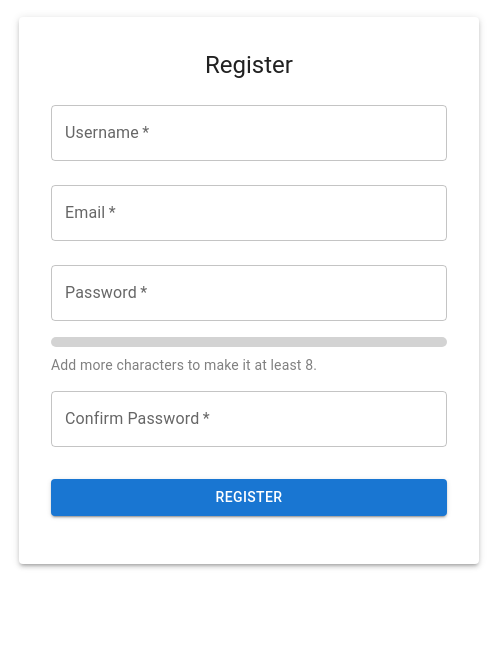
Test case: Registration Component Tests › should display a client-side validation error if email is not valid
This screenshot has width=499, height=650.
Type "testuser" into the field labelled "Username *" at (249, 133), box x1=51 y1=105 x2=447 y2=161
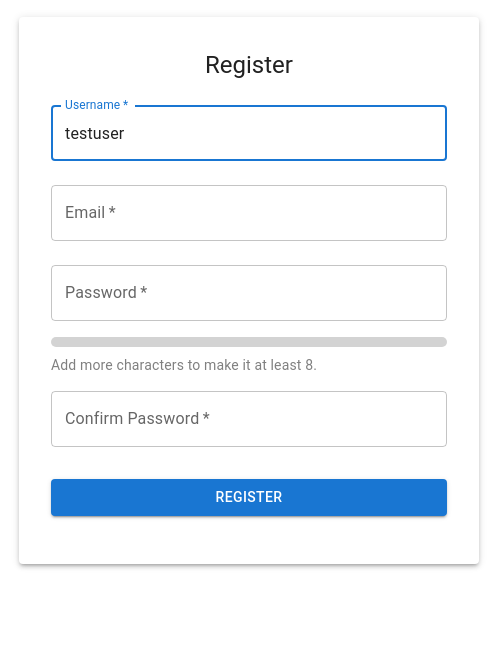
Type "testuser" into the field labelled "Email *" at (249, 213), box x1=51 y1=185 x2=447 y2=241
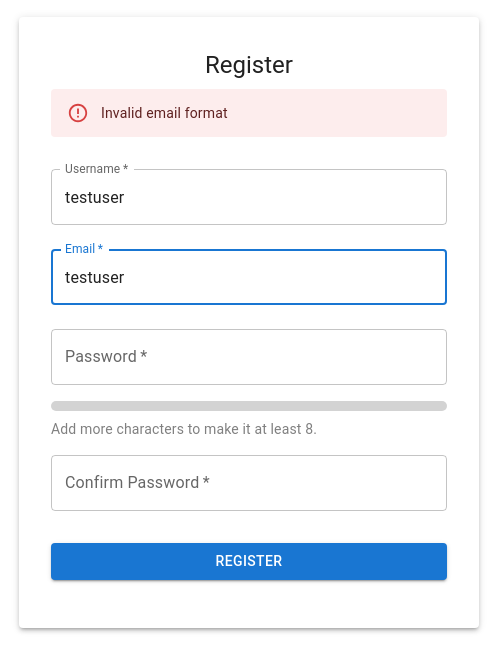
Expected: the text "Invalid email format" is shown, x1=101 y1=105 x2=228 y2=121
